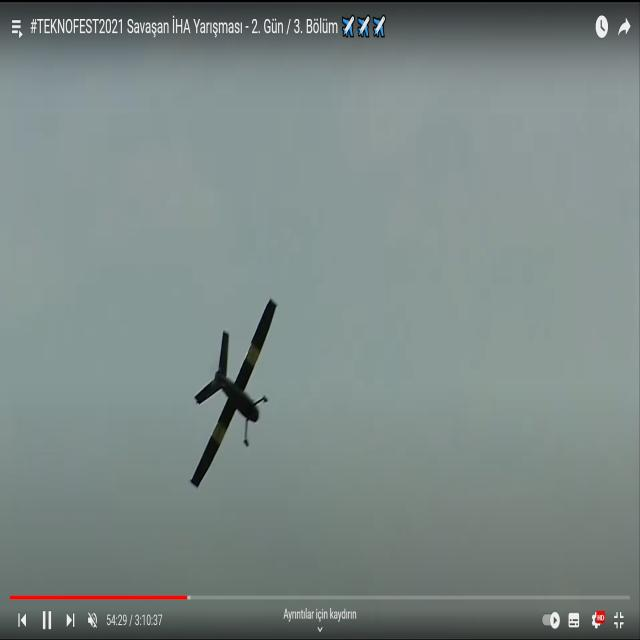iha: (223, 292, 245, 484)
